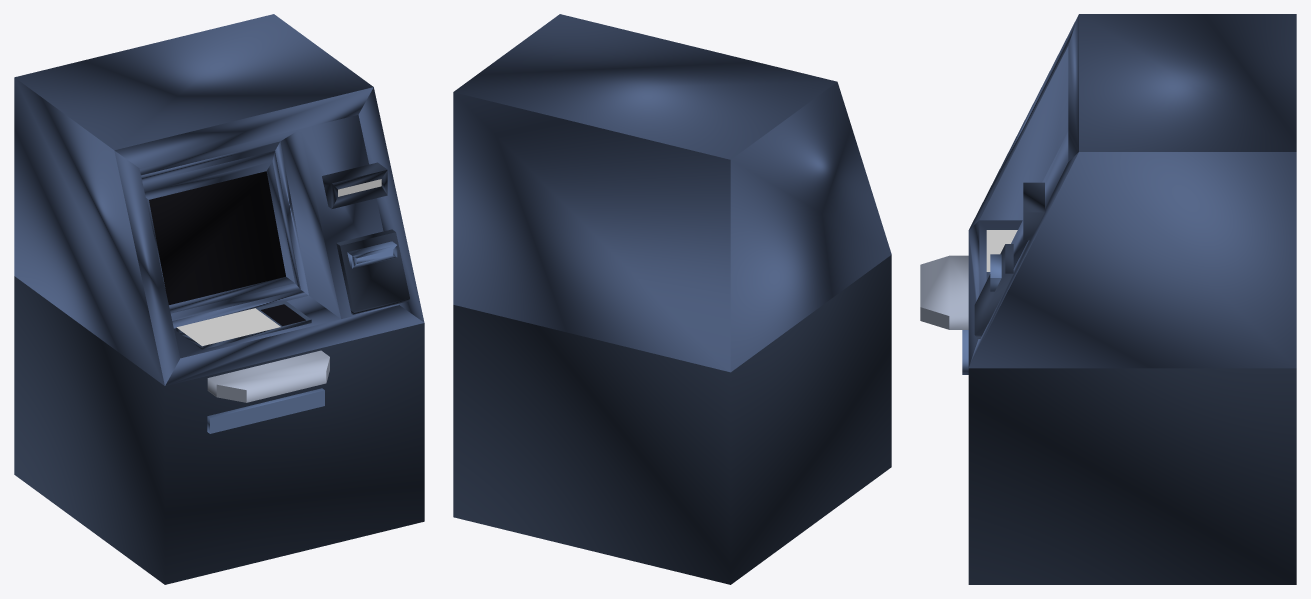
Rendered from CashGiver.fbx.
3 renders of one model, left to right at view 1: azimuth 30°, elevation 25°; view 2: azimuth 150°, elevation 25°; view 3: azimuth 270°, elevation 25°, orthographic. The views are drawn at different scales.
Visible parts, largest first — view 1: ATM1; view 2: ATM1; view 3: ATM1.
Boxes of the visible parts, x1,y1,x2,y2 form: ATM1: [14, 14, 424, 584]; ATM1: [453, 14, 891, 584]; ATM1: [920, 14, 1296, 584].
Size of the model in its own units: 25.11 by 36.75 by 28.92.
